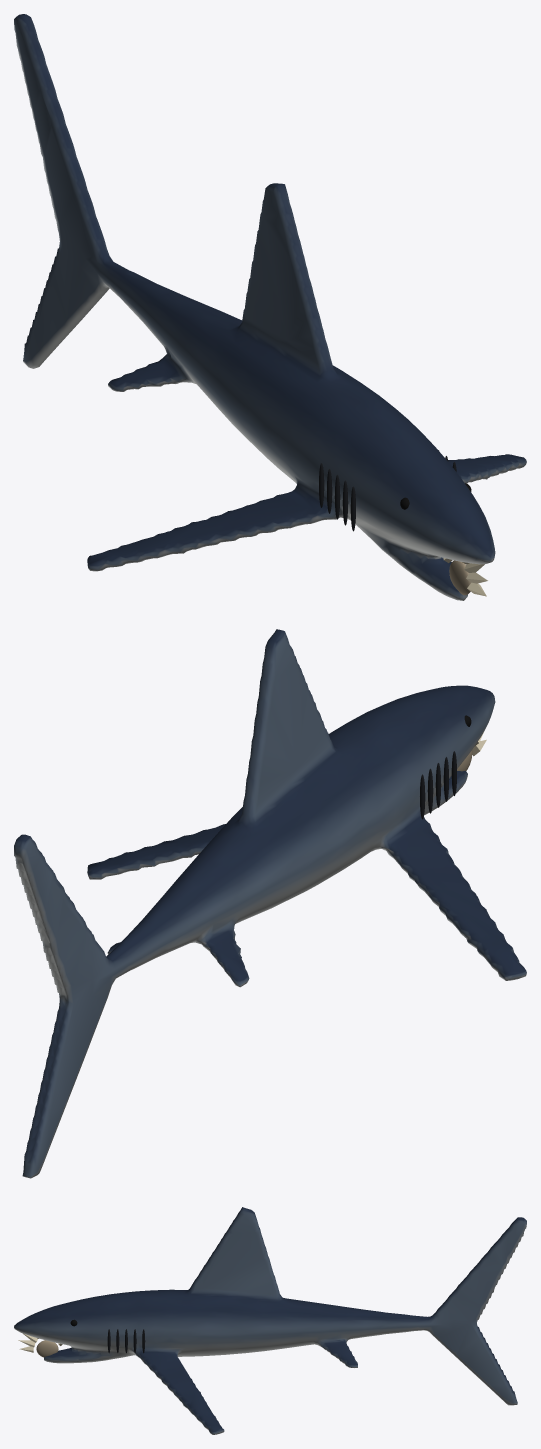
File: Sarcoprion.fbx
The picture shows the model from 3 angles, top to bottom: view 1: azimuth 30°, elevation 25°; view 2: azimuth 150°, elevation 25°; view 3: azimuth 270°, elevation 25°; orthographic projection. The views are drawn at different scales.
Parts seen in each view (by area): view 1: Sarcoprion; view 2: Sarcoprion; view 3: Sarcoprion.
Part boxes in pixels (x1,y1,x2,y2): Sarcoprion: (14,14,526,600); Sarcoprion: (14,629,526,1178); Sarcoprion: (14,1207,526,1434).
Bounding box in the file's own units: 1.11 × 0.8813 × 2.08.
